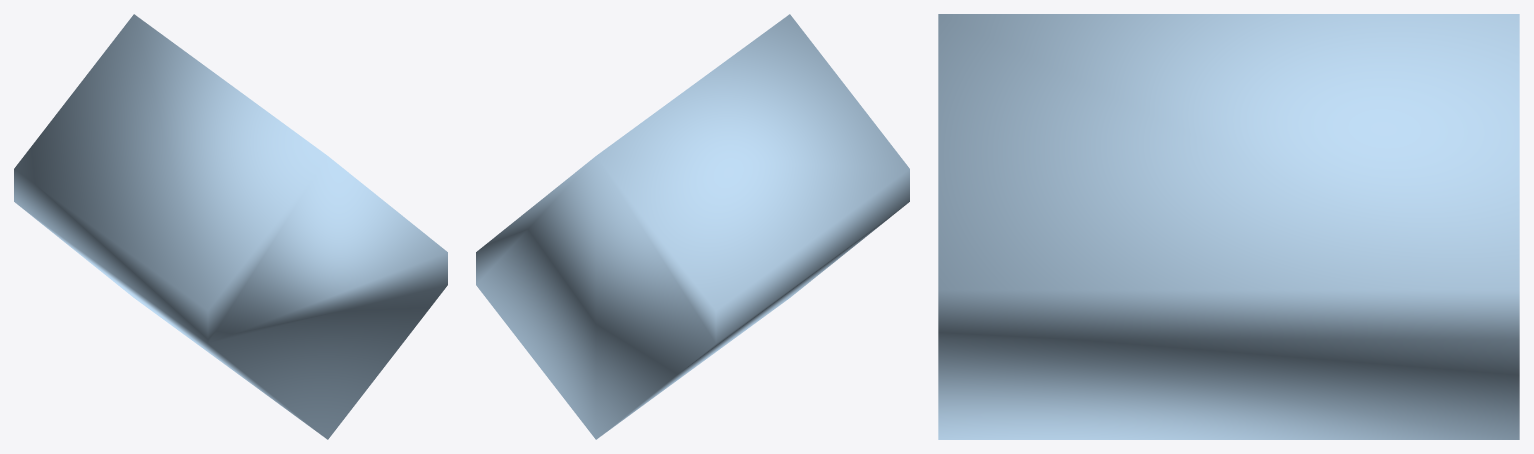
The model's file is orpiment.glb.
3 renders of one model, left to right at view 1: azimuth 30°, elevation 25°; view 2: azimuth 150°, elevation 25°; view 3: azimuth 270°, elevation 25°, orthographic. The views are drawn at different scales.
Visible parts, largest first — view 1: orpiment; view 2: orpiment; view 3: orpiment.
Boxes of the visible parts, x1,y1,x2,y2 form: orpiment: [14, 14, 447, 439]; orpiment: [476, 14, 909, 439]; orpiment: [938, 14, 1519, 439].
Bounding box in the file's own units: 1 × 1.13 × 1.4.
